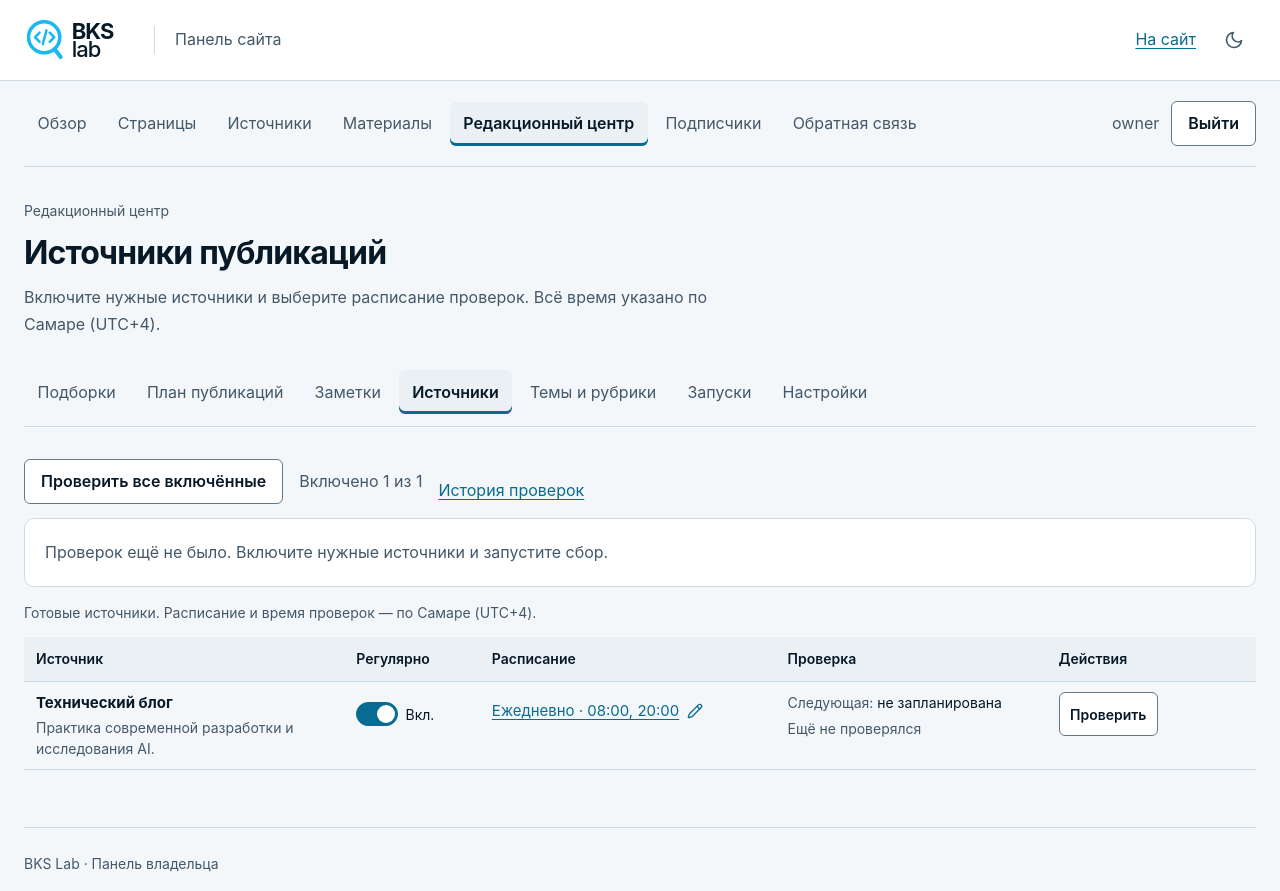
Test case: protected editorial routes › starts a manual check of one paused source directly from the sources page
This screenshot has width=1280, height=891.
Click the button "Проверить": (1108,714) [1059, 692, 1158, 736]
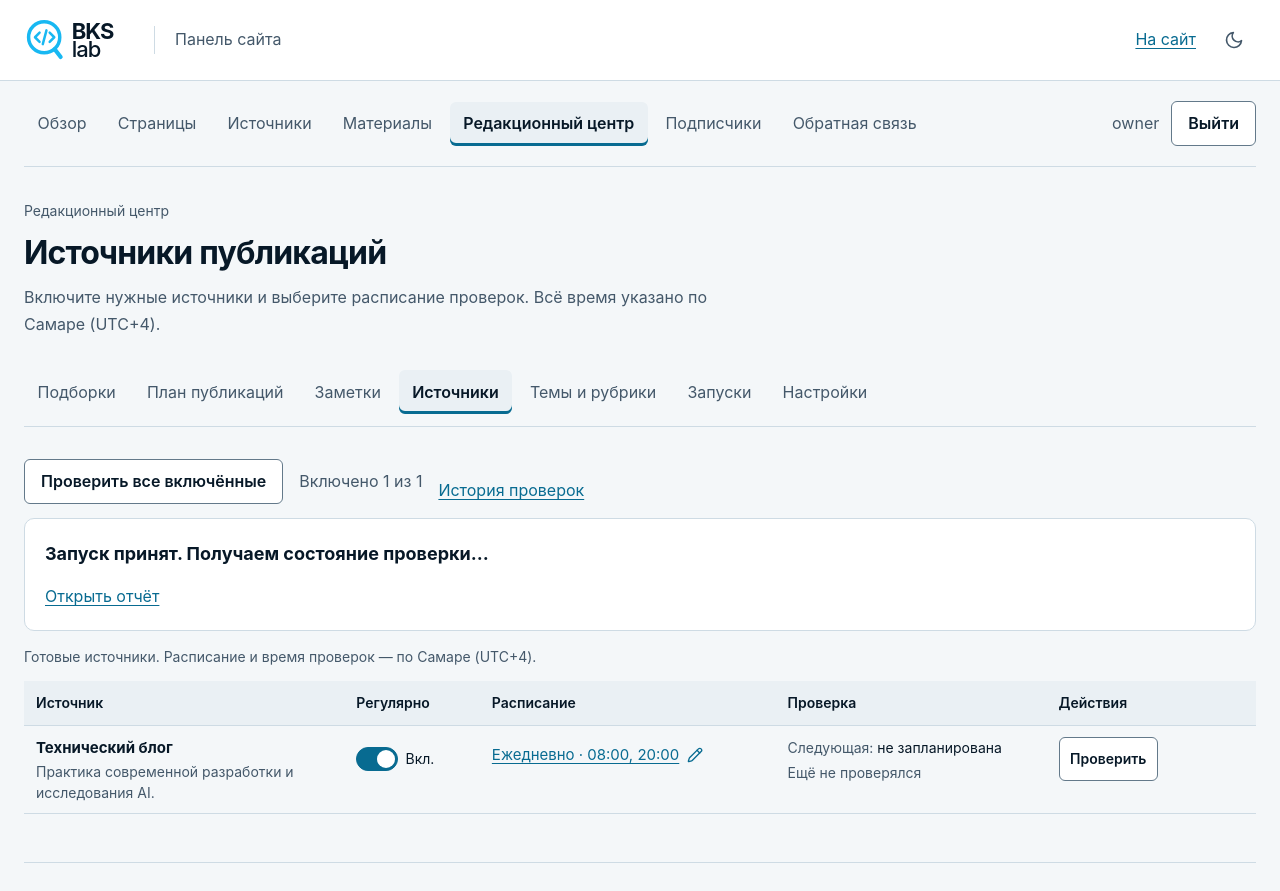
Check: the link "Открыть отчёт" is shown, box [45, 586, 159, 606]
